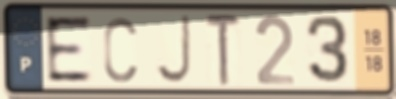2: (253, 12, 299, 88)
3: (302, 14, 351, 87)
C: (101, 13, 139, 85)
E: (42, 13, 96, 85)
J: (152, 13, 193, 86)
T: (202, 11, 244, 88)
